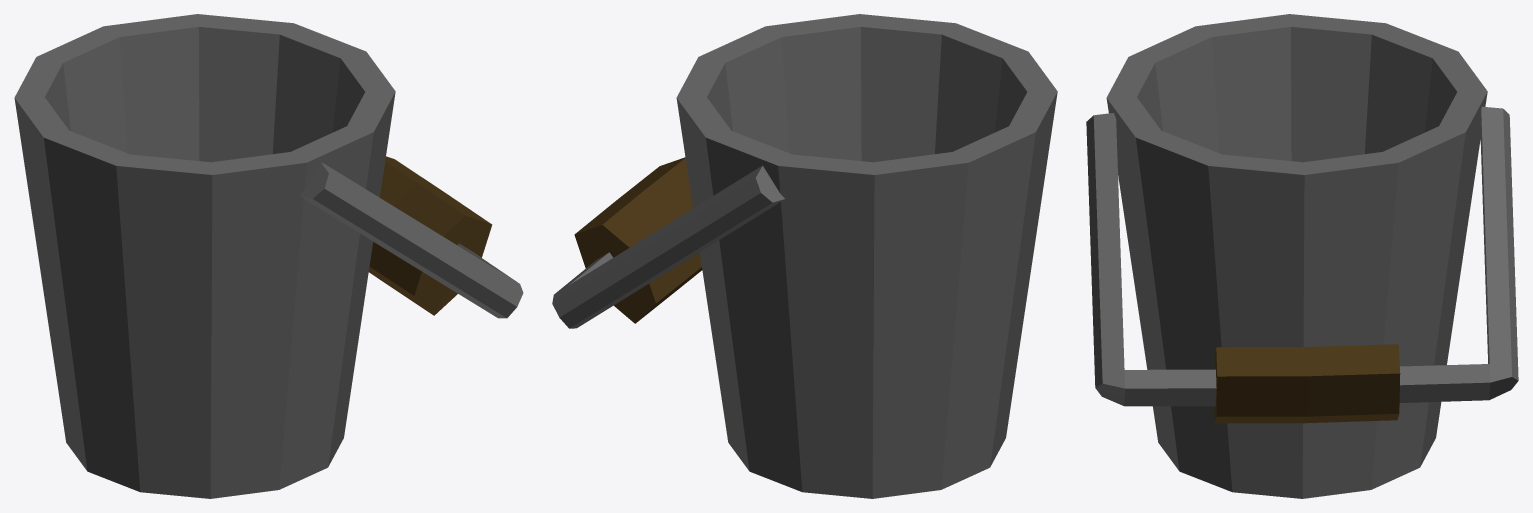
File: empty_bucket.fbx
3 views of the same model, side by side, from view 1: azimuth 30°, elevation 25°; view 2: azimuth 150°, elevation 25°; view 3: azimuth 270°, elevation 25° (orthographic).
Parts seen in each view (by area): view 1: empty_bucket; view 2: empty_bucket; view 3: empty_bucket.
Part boxes in pixels (box(x1,y1,x2,y2)): empty_bucket: box(14, 14, 523, 498); empty_bucket: box(552, 14, 1057, 498); empty_bucket: box(1086, 14, 1518, 498).
Bounding box in the file's own units: 71.27 × 57.08 × 64.68.
